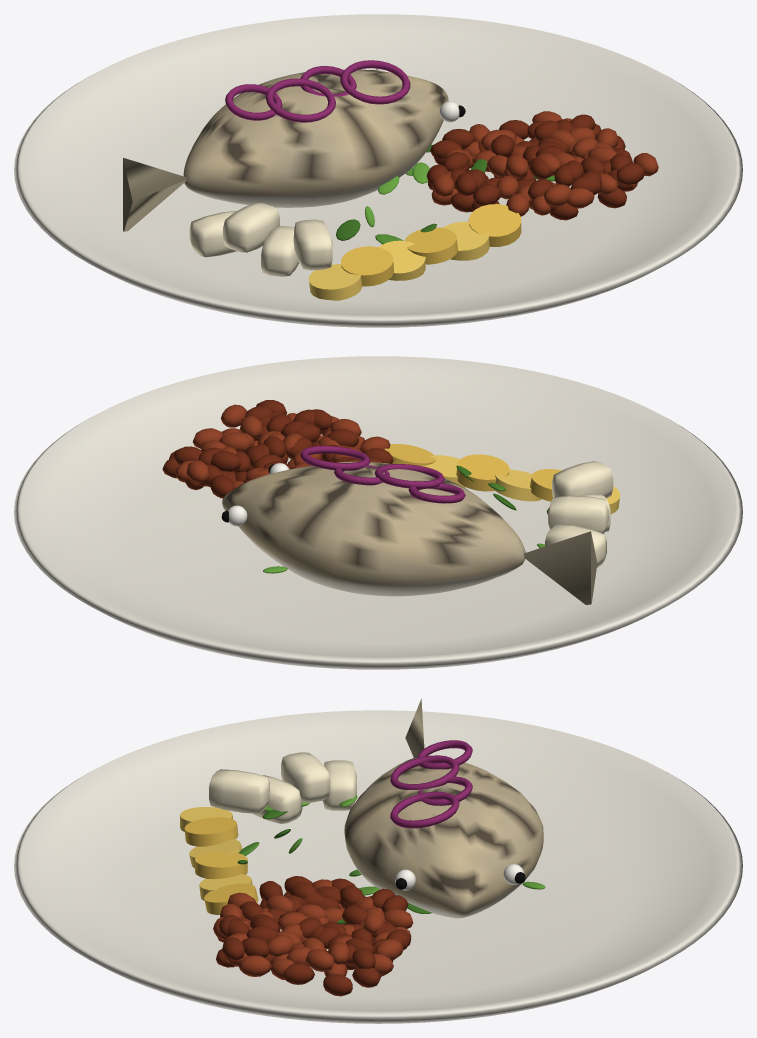
File: mufete.glb
3 renders of one model, top to bottom at view 1: azimuth 30°, elevation 25°; view 2: azimuth 150°, elevation 25°; view 3: azimuth 270°, elevation 25°, orthographic.
Bounding box in the file's own units: 0.2864 × 0.0507 × 0.2864.
